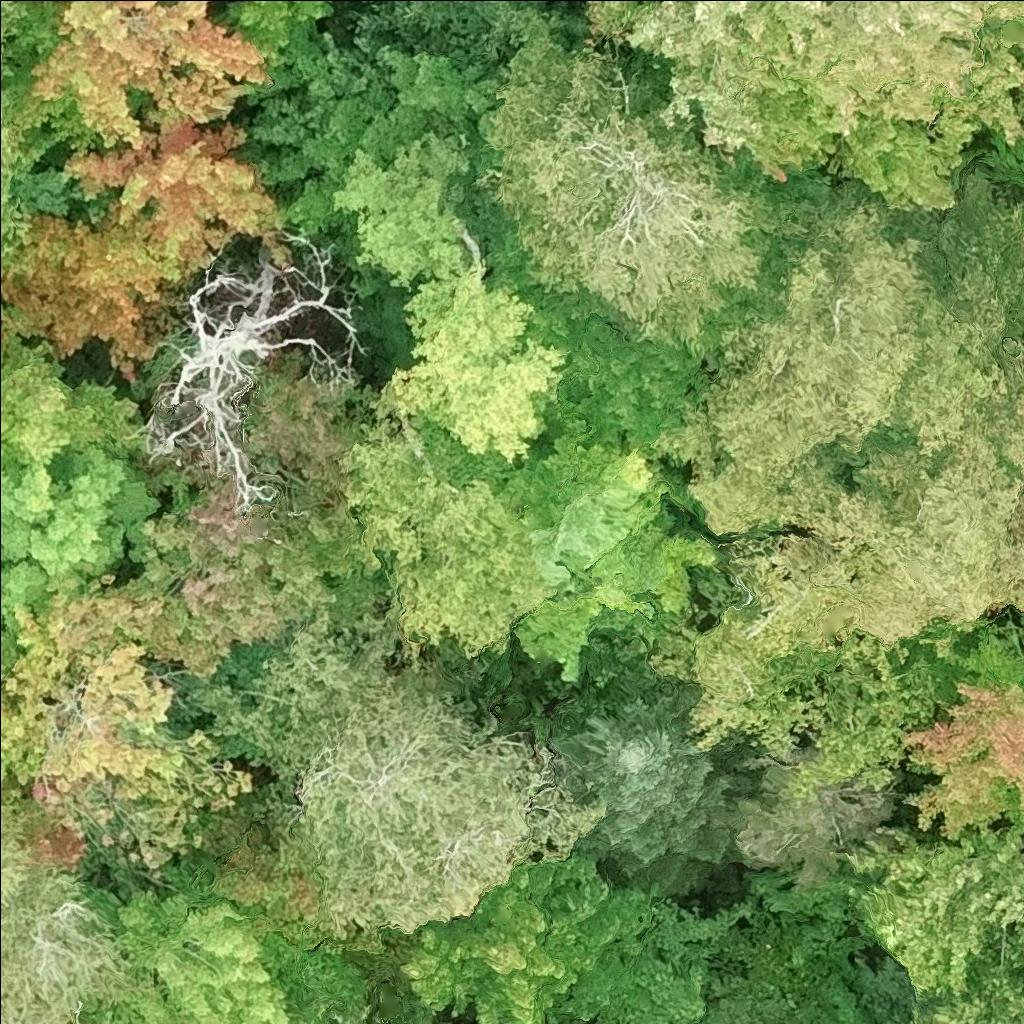crown: (646, 161, 1023, 795), (180, 589, 605, 938), (489, 15, 810, 359), (585, 0, 1023, 213), (123, 347, 390, 674), (0, 562, 252, 874), (132, 225, 364, 510), (503, 416, 720, 686), (338, 412, 553, 671), (541, 680, 768, 898), (398, 852, 662, 1023), (369, 261, 573, 470), (7, 0, 275, 150), (61, 98, 287, 275), (0, 442, 161, 669), (0, 195, 191, 381), (0, 797, 145, 1023), (843, 828, 1023, 1005), (80, 884, 298, 1023), (903, 670, 1023, 843), (0, 336, 149, 467), (592, 895, 743, 1023), (903, 924, 1023, 1023), (209, 0, 338, 71), (0, 88, 22, 257), (0, 0, 22, 58), (350, 0, 373, 4), (160, 0, 180, 4)
